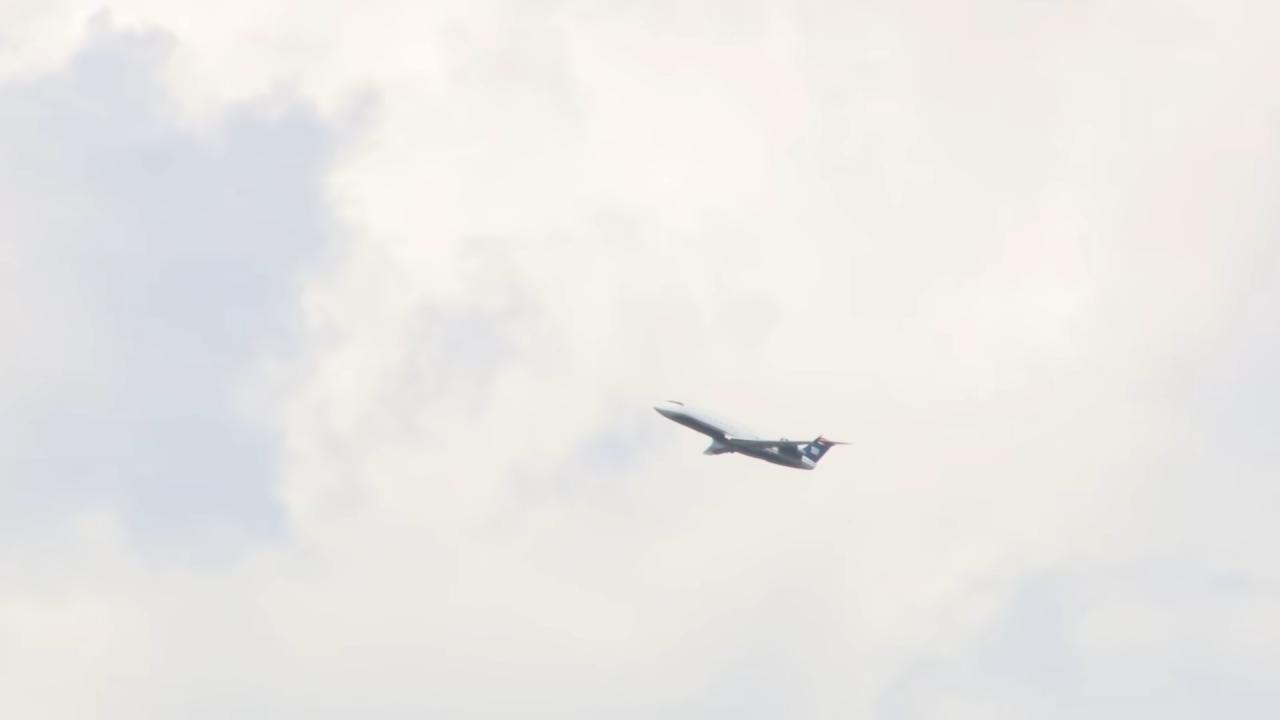Airplane: (641, 383, 858, 482)
